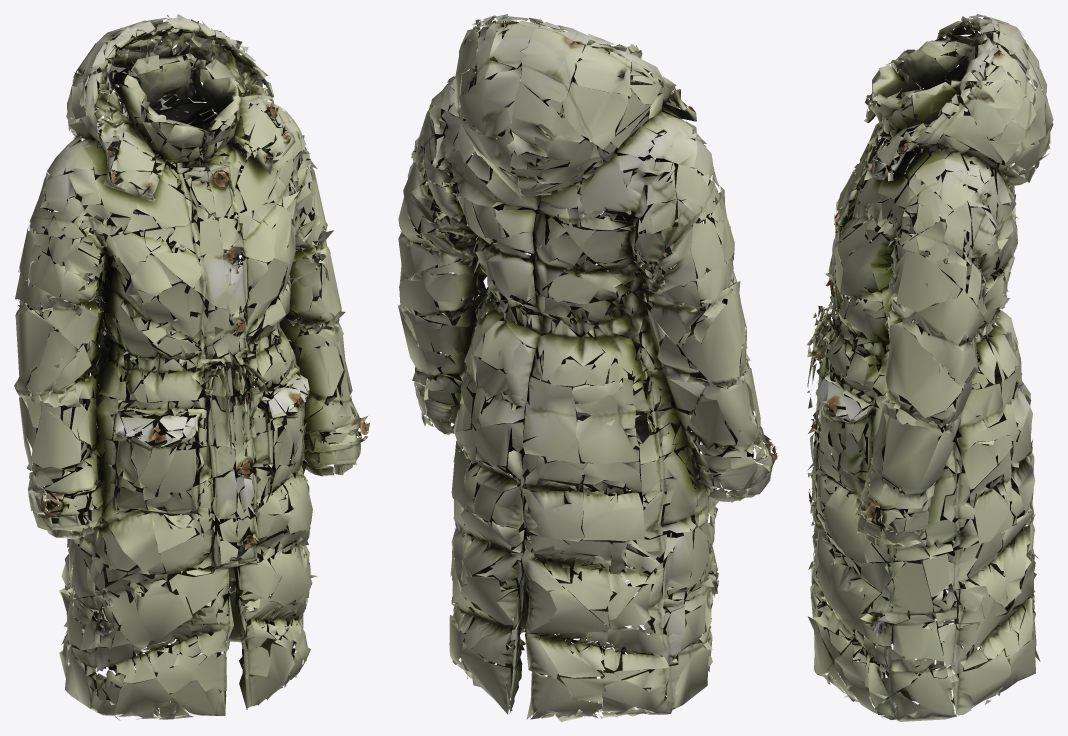
The model's file is parka.glb.
The picture shows the model from 3 angles, left to right: view 1: azimuth 30°, elevation 25°; view 2: azimuth 150°, elevation 25°; view 3: azimuth 270°, elevation 25°; orthographic projection. The views are drawn at different scales.
Parts seen in each view (by area): view 1: parka; view 2: parka; view 3: parka.
Boxes of the visible parts, <box> form: parka: <box>14,14,369,720</box>; parka: <box>398,14,777,721</box>; parka: <box>806,14,1053,721</box>.
Bounding box in the file's own units: 0.6563 × 1.21 × 0.422.
1 material, 1 textured.
